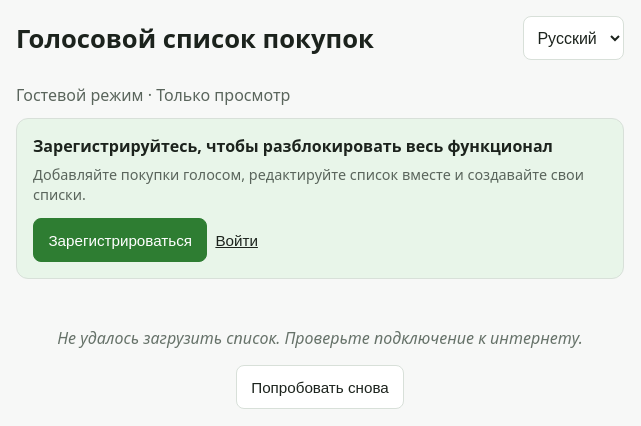
Test case: guest updates › shows a retry after a network failure and can recover
Check: the message shows "подключение", box [57, 327, 583, 349]
Click the button "Попробовать снова" at (320, 387), box [236, 365, 404, 409]
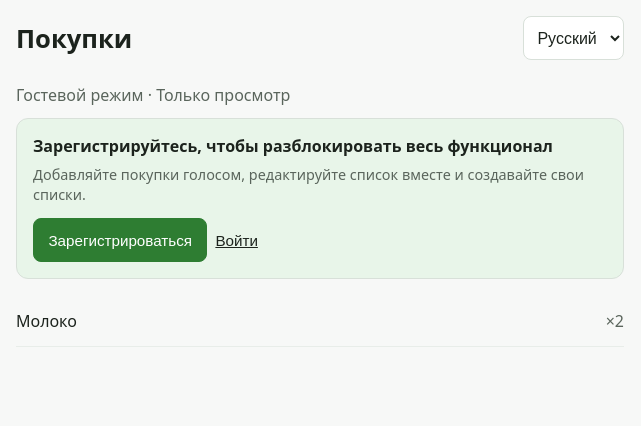
Check: the text "Молоко" is shown, box [16, 310, 77, 332]
Check: the message "Не удалось загрузить список. Проверьте подключение к интернету." is gone
